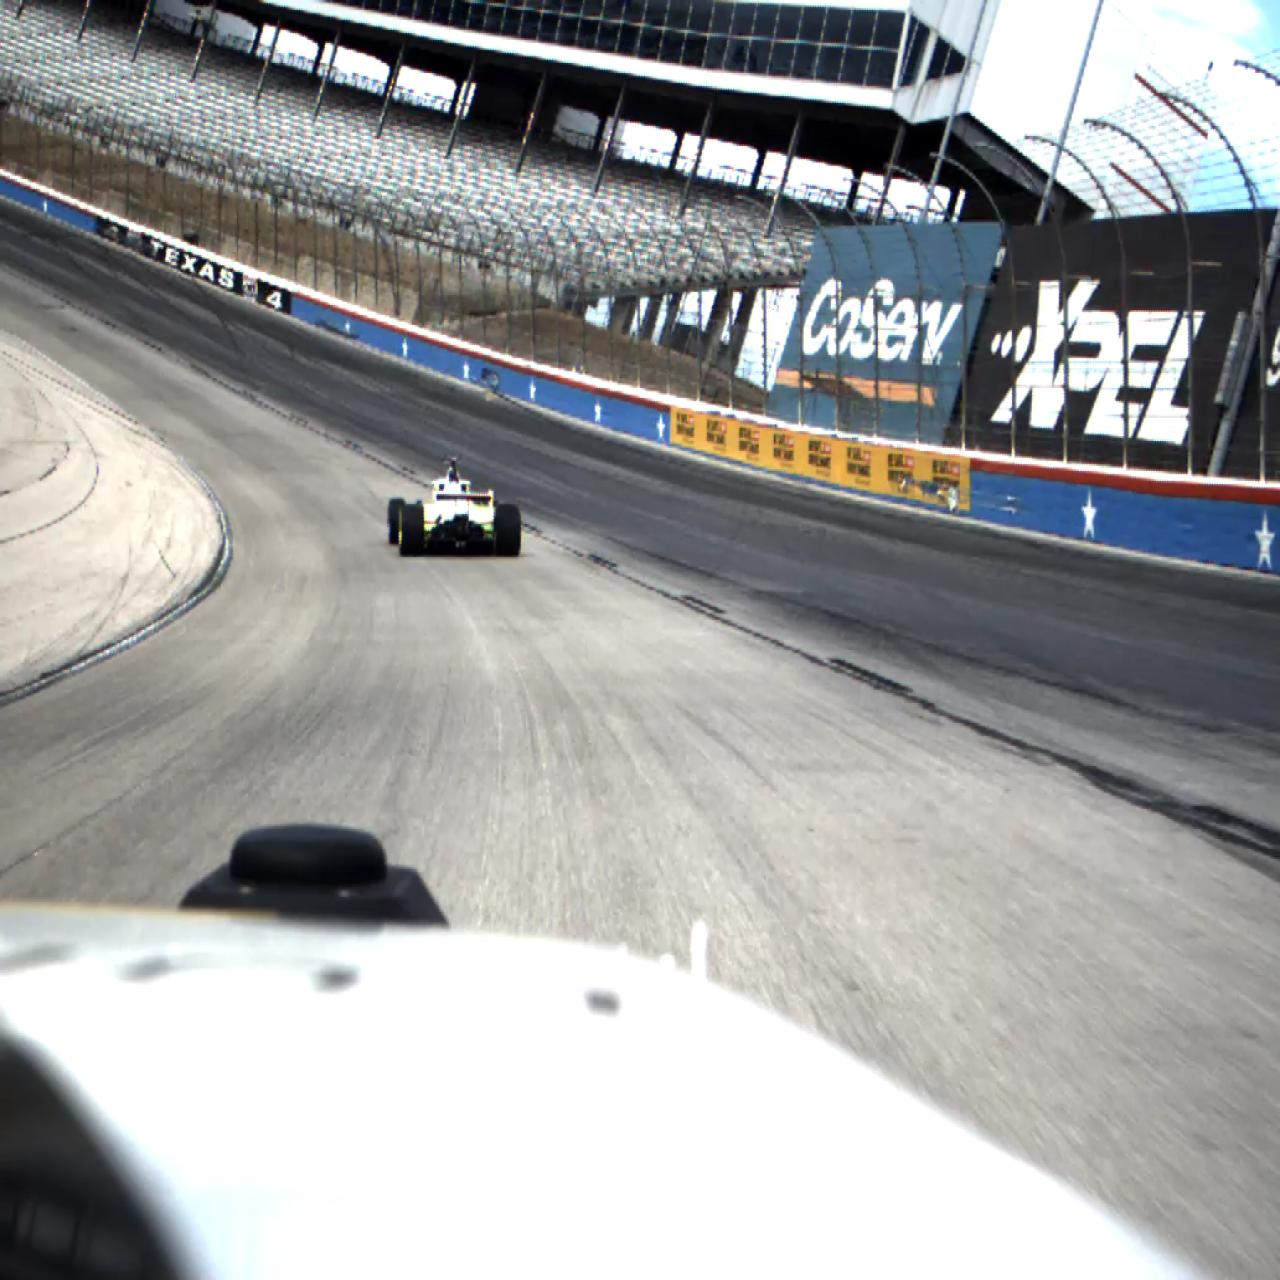AV: (386, 456, 522, 558)
Wheel: (496, 504, 521, 557), (399, 504, 423, 556), (388, 498, 406, 544)
